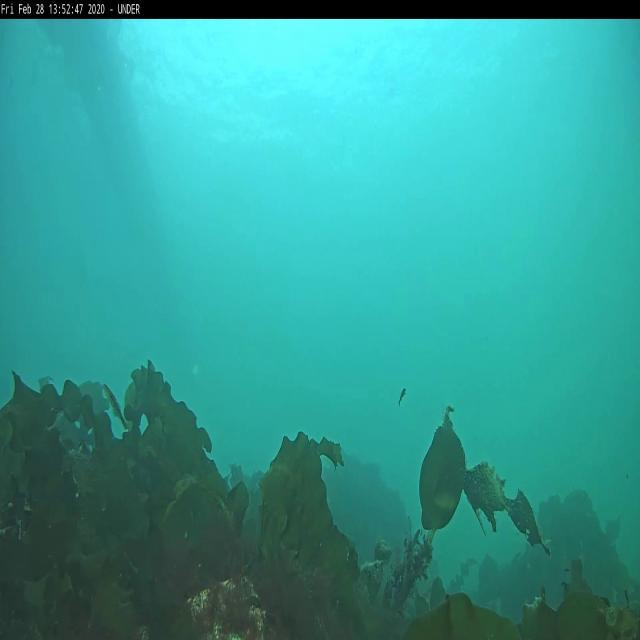fish: (101, 382, 128, 428), (398, 384, 407, 408)
